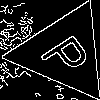P: (38, 27, 100, 81)
